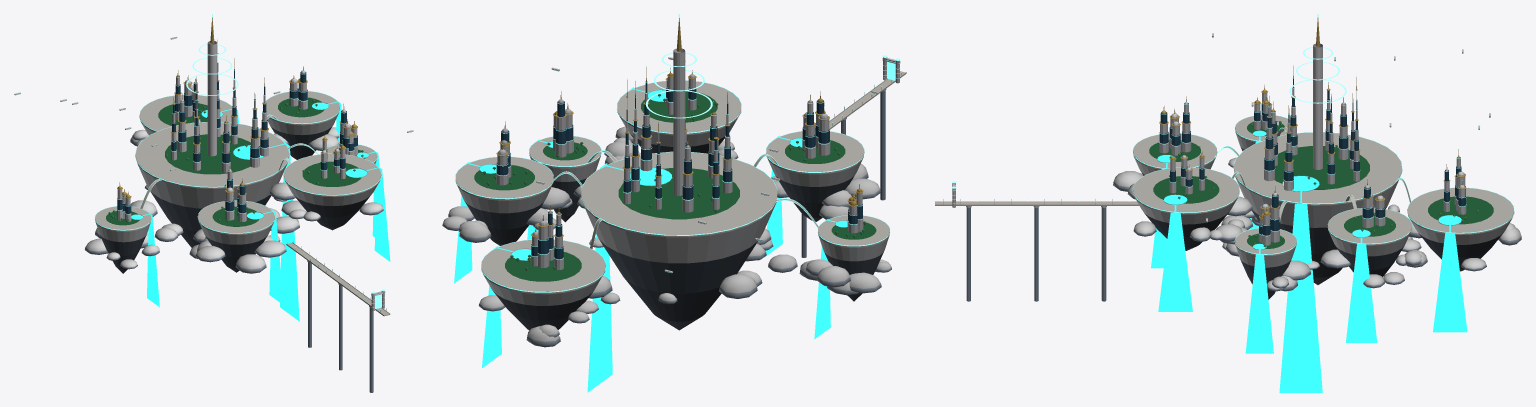
Rendered from shaddai_edge_skycity_v01.glb.
The picture shows the model from 3 angles, left to right: view 1: azimuth 30°, elevation 25°; view 2: azimuth 150°, elevation 25°; view 3: azimuth 270°, elevation 25°; orthographic projection. The views are drawn at different scales.
Parts seen in each view (by area): view 1: shaddai_edge_skycity; view 2: shaddai_edge_skycity; view 3: shaddai_edge_skycity.
Boxes of the visible parts, x1=… form: shaddai_edge_skycity: x1=14, y1=14, x2=413, y2=392; shaddai_edge_skycity: x1=442, y1=14, x2=906, y2=392; shaddai_edge_skycity: x1=935, y1=14, x2=1521, y2=392.
Size of the model in its own units: 663 by 669 by 1042.
